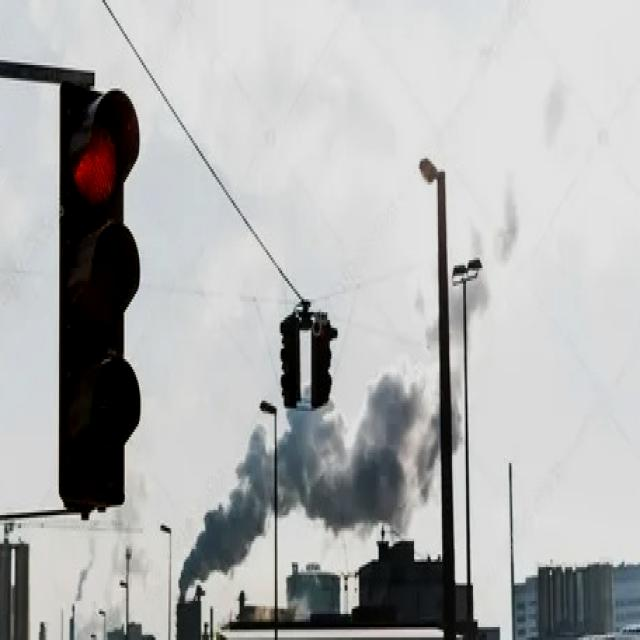kirmizi: (59, 84, 141, 506)
